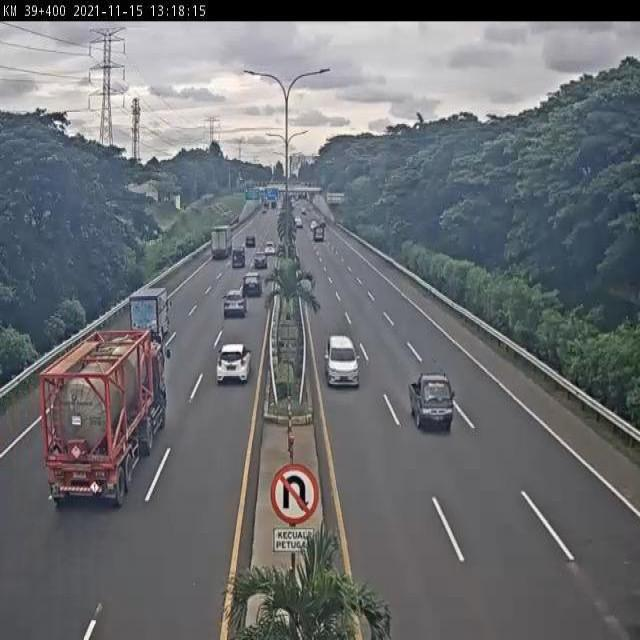car: (324, 332, 360, 389), (214, 340, 253, 388), (222, 287, 247, 317), (241, 269, 264, 299)
truck: (45, 325, 168, 511), (406, 368, 455, 437), (126, 284, 171, 341)
